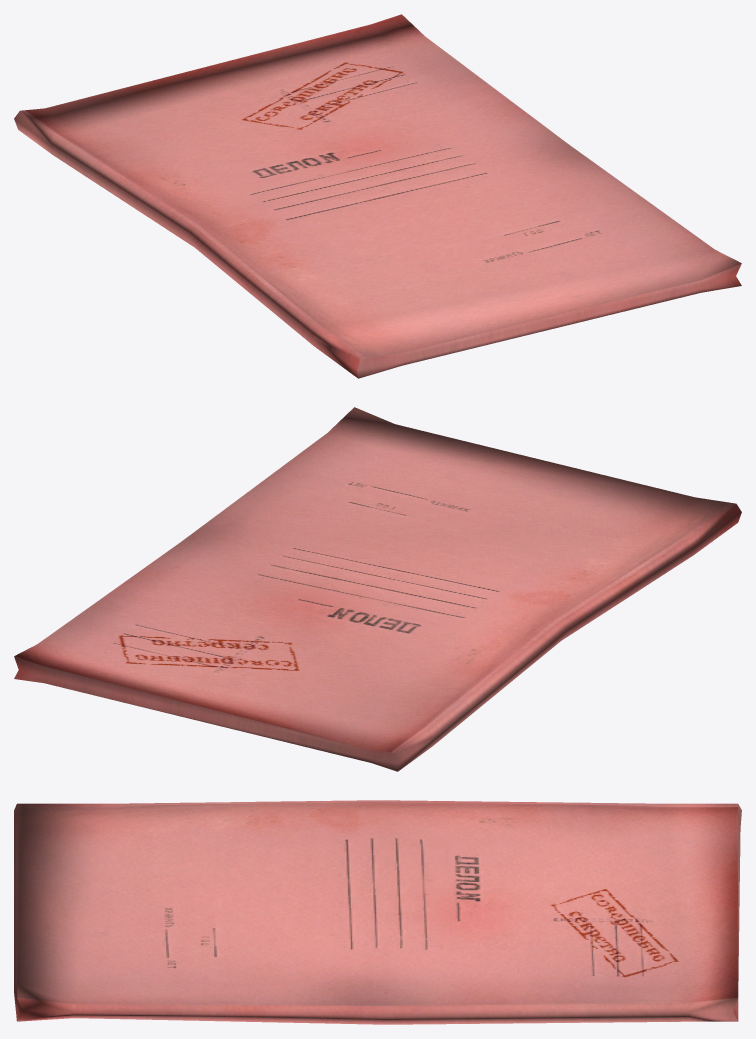
Rendered from item_delo.fbx.
The picture shows the model from 3 angles, top to bottom: view 1: azimuth 30°, elevation 25°; view 2: azimuth 150°, elevation 25°; view 3: azimuth 270°, elevation 25°; orthographic projection. The views are drawn at different scales.
Visible parts, largest first — view 1: 0; view 2: 0; view 3: 0.
Part boxes in pixels (x1,y1,x2,y2): 0: [14, 14, 741, 378]; 0: [14, 407, 741, 771]; 0: [14, 800, 741, 1024].
Size of the model in its own units: 0.3256 by 0.025 by 0.5018.
